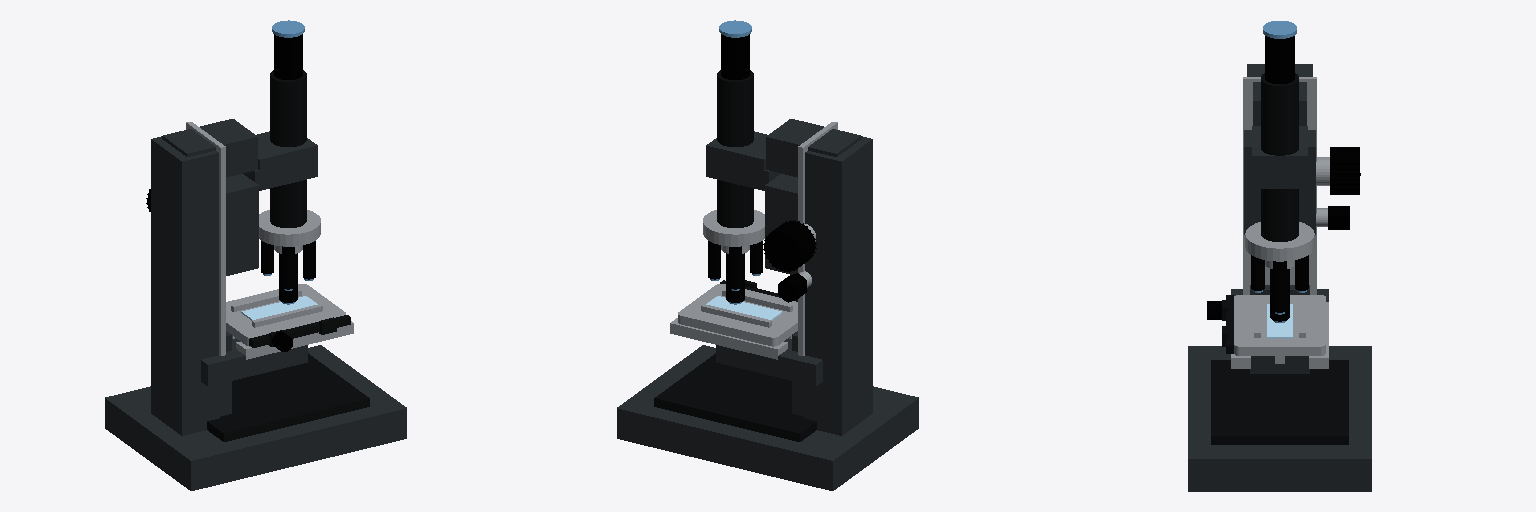
The robot description file, URDF, robot "metal_monocular_microscope":
<robot name="metal_monocular_microscope">
  <material name="painted_metal">
    <color rgba="0.2 0.22 0.23 1" />
    </material>
  <material name="dark_metal">
    <color rgba="0.08 0.085 0.09 1" />
    </material>
  <material name="brushed_steel">
    <color rgba="0.62 0.64 0.66 1" />
    </material>
  <material name="black_rubber">
    <color rgba="0.015 0.015 0.018 1" />
    </material>
  <material name="objective_black">
    <color rgba="0.03 0.03 0.035 1" />
    </material>
  <material name="lens_glass">
    <color rgba="0.42 0.62 0.78 0.45" />
    </material>
  <material name="slide_glass">
    <color rgba="0.76 0.91 1 0.35" />
    </material>
  <link name="frame">
    <visual name="deep_base">
      <origin xyz="0.01 0 0.0175" rpy="0 0 0" />
      <geometry>
        <box size="0.26 0.18 0.035" />
        </geometry>
      <material name="painted_metal">
        <color rgba="0.2 0.22 0.23 1" />
        </material>
      </visual>
    <visual name="base_top_plinth">
      <origin xyz="0.02 0 0.04" rpy="0 0 0" />
      <geometry>
        <box size="0.175 0.135 0.01" />
        </geometry>
      <material name="dark_metal">
        <color rgba="0.08 0.085 0.09 1" />
        </material>
      </visual>
    <visual name="upright_arm">
      <origin xyz="-0.075 0 0.1925" rpy="0 0 0" />
      <geometry>
        <box size="0.045 0.065 0.315" />
        </geometry>
      <material name="painted_metal">
        <color rgba="0.2 0.22 0.23 1" />
        </material>
      </visual>
    <visual name="arm_head_mass">
      <origin xyz="-0.045 0 0.335" rpy="0 0 0" />
      <geometry>
        <box size="0.085 0.052 0.038" />
        </geometry>
      <material name="painted_metal">
        <color rgba="0.2 0.22 0.23 1" />
        </material>
      </visual>
    <visual name="stage_cantilever">
      <origin xyz="-0.015 0 0.105" rpy="0 0 0" />
      <geometry>
        <box size="0.12 0.095 0.025" />
        </geometry>
      <material name="painted_metal">
        <color rgba="0.2 0.22 0.23 1" />
        </material>
      </visual>
    <visual name="stage_support_web">
      <origin xyz="-0.05 0 0.0875" rpy="0 0 0" />
      <geometry>
        <box size="0.03 0.058 0.095" />
        </geometry>
      <material name="painted_metal">
        <color rgba="0.2 0.22 0.23 1" />
        </material>
      </visual>
    <visual name="stage_rail_0">
      <origin xyz="0.035 -0.038 0.119" rpy="0 0 0" />
      <geometry>
        <box size="0.13 0.02 0.012" />
        </geometry>
      <material name="brushed_steel">
        <color rgba="0.62 0.64 0.66 1" />
        </material>
      </visual>
    <visual name="stage_rail_1">
      <origin xyz="0.035 0.038 0.119" rpy="0 0 0" />
      <geometry>
        <box size="0.13 0.02 0.012" />
        </geometry>
      <material name="brushed_steel">
        <color rgba="0.62 0.64 0.66 1" />
        </material>
      </visual>
    <visual name="stage_center_way">
      <origin xyz="0.035 0 0.12" rpy="0 0 0" />
      <geometry>
        <box size="0.112 0.01 0.01" />
        </geometry>
      <material name="brushed_steel">
        <color rgba="0.62 0.64 0.66 1" />
        </material>
      </visual>
    <visual name="focus_dovetail">
      <origin xyz="-0.05 0 0.222" rpy="0 0 0" />
      <geometry>
        <box size="0.006 0.072 0.27" />
        </geometry>
      <material name="brushed_steel">
        <color rgba="0.62 0.64 0.66 1" />
        </material>
      </visual>
    <visual name="coarse_focus_boss">
      <origin xyz="-0.053 0.0405 0.255" rpy="-1.5708 0 0" />
      <geometry>
        <cylinder radius="0.014" length="0.016" />
        </geometry>
      <material name="brushed_steel">
        <color rgba="0.62 0.64 0.66 1" />
        </material>
      </visual>
    <visual name="fine_focus_boss">
      <origin xyz="-0.053 0.0395 0.205" rpy="-1.5708 0 0" />
      <geometry>
        <cylinder radius="0.009" length="0.014" />
        </geometry>
      <material name="brushed_steel">
        <color rgba="0.62 0.64 0.66 1" />
        </material>
      </visual>
    <collision name="deep_base">
      <origin xyz="0.01 0 0.0175" rpy="0 0 0" />
      <geometry>
        <box size="0.26 0.18 0.035" />
        </geometry>
      </collision>
    <collision name="base_top_plinth">
      <origin xyz="0.02 0 0.04" rpy="0 0 0" />
      <geometry>
        <box size="0.175 0.135 0.01" />
        </geometry>
      </collision>
    <collision name="upright_arm">
      <origin xyz="-0.075 0 0.1925" rpy="0 0 0" />
      <geometry>
        <box size="0.045 0.065 0.315" />
        </geometry>
      </collision>
    <collision name="arm_head_mass">
      <origin xyz="-0.045 0 0.335" rpy="0 0 0" />
      <geometry>
        <box size="0.085 0.052 0.038" />
        </geometry>
      </collision>
    <collision name="stage_cantilever">
      <origin xyz="-0.015 0 0.105" rpy="0 0 0" />
      <geometry>
        <box size="0.12 0.095 0.025" />
        </geometry>
      </collision>
    <collision name="stage_support_web">
      <origin xyz="-0.05 0 0.0875" rpy="0 0 0" />
      <geometry>
        <box size="0.03 0.058 0.095" />
        </geometry>
      </collision>
    <collision name="stage_rail_0">
      <origin xyz="0.035 -0.038 0.119" rpy="0 0 0" />
      <geometry>
        <box size="0.13 0.02 0.012" />
        </geometry>
      </collision>
    <collision name="stage_rail_1">
      <origin xyz="0.035 0.038 0.119" rpy="0 0 0" />
      <geometry>
        <box size="0.13 0.02 0.012" />
        </geometry>
      </collision>
    <collision name="stage_center_way">
      <origin xyz="0.035 0 0.12" rpy="0 0 0" />
      <geometry>
        <box size="0.112 0.01 0.01" />
        </geometry>
      </collision>
    <collision name="focus_dovetail">
      <origin xyz="-0.05 0 0.222" rpy="0 0 0" />
      <geometry>
        <box size="0.006 0.072 0.27" />
        </geometry>
      </collision>
    <collision name="coarse_focus_boss">
      <origin xyz="-0.053 0.0405 0.255" rpy="-1.5708 0 0" />
      <geometry>
        <cylinder radius="0.014" length="0.016" />
        </geometry>
      </collision>
    <collision name="fine_focus_boss">
      <origin xyz="-0.053 0.0395 0.205" rpy="-1.5708 0 0" />
      <geometry>
        <cylinder radius="0.009" length="0.014" />
        </geometry>
      </collision>
    </link>
  <link name="stage_carriage">
    <visual name="stage_plate">
      <geometry>
        <mesh filename="assets/meshes/rectangular_slide_stage.obj" />
        </geometry>
      <material name="brushed_steel">
        <color rgba="0.62 0.64 0.66 1" />
        </material>
      </visual>
    <visual name="glass_slide">
      <origin xyz="0.004 0 0.011" rpy="0 0 0" />
      <geometry>
        <box size="0.078 0.026 0.002" />
        </geometry>
      <material name="slide_glass">
        <color rgba="0.76 0.91 1 0.35" />
        </material>
      </visual>
    <visual name="slide_clip_0">
      <origin xyz="0 0.022 0.013" rpy="0 0 0" />
      <geometry>
        <box size="0.082 0.006 0.006" />
        </geometry>
      <material name="brushed_steel">
        <color rgba="0.62 0.64 0.66 1" />
        </material>
      </visual>
    <visual name="slide_clip_1">
      <origin xyz="0 -0.022 0.013" rpy="0 0 0" />
      <geometry>
        <box size="0.082 0.006 0.006" />
        </geometry>
      <material name="brushed_steel">
        <color rgba="0.62 0.64 0.66 1" />
        </material>
      </visual>
    <visual name="guide_bar">
      <origin xyz="0 -0.049 0.006" rpy="0 0 0" />
      <geometry>
        <box size="0.118 0.008 0.008" />
        </geometry>
      <material name="dark_metal">
        <color rgba="0.08 0.085 0.09 1" />
        </material>
      </visual>
    <visual name="guide_control_mount_0">
      <origin xyz="-0.03 -0.054 0.007" rpy="0 0 0" />
      <geometry>
        <box size="0.018 0.006 0.014" />
        </geometry>
      <material name="dark_metal">
        <color rgba="0.08 0.085 0.09 1" />
        </material>
      </visual>
    <visual name="guide_control_mount_1">
      <origin xyz="0.03 -0.054 0.007" rpy="0 0 0" />
      <geometry>
        <box size="0.018 0.006 0.014" />
        </geometry>
      <material name="dark_metal">
        <color rgba="0.08 0.085 0.09 1" />
        </material>
      </visual>
    <collision name="stage_plate">
      <geometry>
        <mesh filename="assets/meshes/rectangular_slide_stage.obj" />
        </geometry>
      </collision>
    <collision name="glass_slide">
      <origin xyz="0.004 0 0.011" rpy="0 0 0" />
      <geometry>
        <box size="0.078 0.026 0.002" />
        </geometry>
      </collision>
    <collision name="slide_clip_0">
      <origin xyz="0 0.022 0.013" rpy="0 0 0" />
      <geometry>
        <box size="0.082 0.006 0.006" />
        </geometry>
      </collision>
    <collision name="slide_clip_1">
      <origin xyz="0 -0.022 0.013" rpy="0 0 0" />
      <geometry>
        <box size="0.082 0.006 0.006" />
        </geometry>
      </collision>
    <collision name="guide_bar">
      <origin xyz="0 -0.049 0.006" rpy="0 0 0" />
      <geometry>
        <box size="0.118 0.008 0.008" />
        </geometry>
      </collision>
    <collision name="guide_control_mount_0">
      <origin xyz="-0.03 -0.054 0.007" rpy="0 0 0" />
      <geometry>
        <box size="0.018 0.006 0.014" />
        </geometry>
      </collision>
    <collision name="guide_control_mount_1">
      <origin xyz="0.03 -0.054 0.007" rpy="0 0 0" />
      <geometry>
        <box size="0.018 0.006 0.014" />
        </geometry>
      </collision>
    </link>
  <link name="body_carriage">
    <visual name="focus_slide_block">
      <origin xyz="0.02 0 0" rpy="0 0 0" />
      <geometry>
        <box size="0.04 0.07 0.095" />
        </geometry>
      <material name="painted_metal">
        <color rgba="0.2 0.22 0.23 1" />
        </material>
      </visual>
    <visual name="monocular_head">
      <origin xyz="0.08 0 0.055" rpy="0 0 0" />
      <geometry>
        <box size="0.07 0.055 0.036" />
        </geometry>
      <material name="painted_metal">
        <color rgba="0.2 0.22 0.23 1" />
        </material>
      </visual>
    <visual name="head_neck">
      <origin xyz="0.0425 0 0.05" rpy="0 0 0" />
      <geometry>
        <box size="0.005 0.055 0.021" />
        </geometry>
      <material name="painted_metal">
        <color rgba="0.2 0.22 0.23 1" />
        </material>
      </visual>
    <visual name="optical_tube">
      <origin xyz="0.0955 0 0.064" rpy="0 0 0" />
      <geometry>
        <cylinder radius="0.019" length="0.168" />
        </geometry>
      <material name="dark_metal">
        <color rgba="0.08 0.085 0.09 1" />
        </material>
      </visual>
    <visual name="eyepiece_barrel">
      <origin xyz="0.0955 0 0.173" rpy="0 0 0" />
      <geometry>
        <cylinder radius="0.015" length="0.05" />
        </geometry>
      <material name="black_rubber">
        <color rgba="0.015 0.015 0.018 1" />
        </material>
      </visual>
    <visual name="ocular_lens">
      <origin xyz="0.0955 0 0.2" rpy="0 0 0" />
      <geometry>
        <cylinder radius="0.017" length="0.004" />
        </geometry>
      <material name="lens_glass">
        <color rgba="0.42 0.62 0.78 0.45" />
        </material>
      </visual>
    <collision name="focus_slide_block">
      <origin xyz="0.02 0 0" rpy="0 0 0" />
      <geometry>
        <box size="0.04 0.07 0.095" />
        </geometry>
      </collision>
    <collision name="monocular_head">
      <origin xyz="0.08 0 0.055" rpy="0 0 0" />
      <geometry>
        <box size="0.07 0.055 0.036" />
        </geometry>
      </collision>
    <collision name="head_neck">
      <origin xyz="0.0425 0 0.05" rpy="0 0 0" />
      <geometry>
        <box size="0.005 0.055 0.021" />
        </geometry>
      </collision>
    <collision name="optical_tube">
      <origin xyz="0.0955 0 0.064" rpy="0 0 0" />
      <geometry>
        <cylinder radius="0.019" length="0.168" />
        </geometry>
      </collision>
    <collision name="eyepiece_barrel">
      <origin xyz="0.0955 0 0.173" rpy="0 0 0" />
      <geometry>
        <cylinder radius="0.015" length="0.05" />
        </geometry>
      </collision>
    <collision name="ocular_lens">
      <origin xyz="0.0955 0 0.2" rpy="0 0 0" />
      <geometry>
        <cylinder radius="0.017" length="0.004" />
        </geometry>
      </collision>
    </link>
  <link name="nosepiece">
    <visual name="revolving_turret">
      <origin xyz="0 0 -0.007" rpy="0 0 0" />
      <geometry>
        <cylinder radius="0.034" length="0.014" />
        </geometry>
      <material name="brushed_steel">
        <color rgba="0.62 0.64 0.66 1" />
        </material>
      </visual>
    <visual name="central_hub">
      <origin xyz="0 0 -0.023" rpy="0 0 0" />
      <geometry>
        <cylinder radius="0.015" length="0.018" />
        </geometry>
      <material name="brushed_steel">
        <color rgba="0.62 0.64 0.66 1" />
        </material>
      </visual>
    <visual name="objective_center">
      <origin xyz="0 0 -0.052" rpy="0 0 0" />
      <geometry>
        <cylinder radius="0.0095" length="0.076" />
        </geometry>
      <material name="objective_black">
        <color rgba="0.03 0.03 0.035 1" />
        </material>
      </visual>
    <visual name="objective_center_lens">
      <origin xyz="0 0 -0.0915" rpy="0 0 0" />
      <geometry>
        <cylinder radius="0.00684" length="0.003" />
        </geometry>
      <material name="lens_glass">
        <color rgba="0.42 0.62 0.78 0.45" />
        </material>
      </visual>
    <visual name="objective_0">
      <origin xyz="0.025 0 -0.042" rpy="0 0 0" />
      <geometry>
        <cylinder radius="0.007" length="0.056" />
        </geometry>
      <material name="objective_black">
        <color rgba="0.03 0.03 0.035 1" />
        </material>
      </visual>
    <visual name="objective_0_lens">
      <origin xyz="0.025 0 -0.0715" rpy="0 0 0" />
      <geometry>
        <cylinder radius="0.00504" length="0.003" />
        </geometry>
      <material name="lens_glass">
        <color rgba="0.42 0.62 0.78 0.45" />
        </material>
      </visual>
    <visual name="objective_1">
      <origin xyz="-0.0125 0.0217 -0.039" rpy="0 0 0" />
      <geometry>
        <cylinder radius="0.007" length="0.05" />
        </geometry>
      <material name="objective_black">
        <color rgba="0.03 0.03 0.035 1" />
        </material>
      </visual>
    <visual name="objective_1_lens">
      <origin xyz="-0.0125 0.0217 -0.0655" rpy="0 0 0" />
      <geometry>
        <cylinder radius="0.00504" length="0.003" />
        </geometry>
      <material name="lens_glass">
        <color rgba="0.42 0.62 0.78 0.45" />
        </material>
      </visual>
    <visual name="objective_2">
      <origin xyz="-0.0125 -0.0217 -0.039" rpy="0 0 0" />
      <geometry>
        <cylinder radius="0.007" length="0.05" />
        </geometry>
      <material name="objective_black">
        <color rgba="0.03 0.03 0.035 1" />
        </material>
      </visual>
    <visual name="objective_2_lens">
      <origin xyz="-0.0125 -0.0217 -0.0655" rpy="0 0 0" />
      <geometry>
        <cylinder radius="0.00504" length="0.003" />
        </geometry>
      <material name="lens_glass">
        <color rgba="0.42 0.62 0.78 0.45" />
        </material>
      </visual>
    <collision name="revolving_turret">
      <origin xyz="0 0 -0.007" rpy="0 0 0" />
      <geometry>
        <cylinder radius="0.034" length="0.014" />
        </geometry>
      </collision>
    <collision name="central_hub">
      <origin xyz="0 0 -0.023" rpy="0 0 0" />
      <geometry>
        <cylinder radius="0.015" length="0.018" />
        </geometry>
      </collision>
    <collision name="objective_center">
      <origin xyz="0 0 -0.052" rpy="0 0 0" />
      <geometry>
        <cylinder radius="0.0095" length="0.076" />
        </geometry>
      </collision>
    <collision name="objective_center_lens">
      <origin xyz="0 0 -0.0915" rpy="0 0 0" />
      <geometry>
        <cylinder radius="0.00684" length="0.003" />
        </geometry>
      </collision>
    <collision name="objective_0">
      <origin xyz="0.025 0 -0.042" rpy="0 0 0" />
      <geometry>
        <cylinder radius="0.007" length="0.056" />
        </geometry>
      </collision>
    <collision name="objective_0_lens">
      <origin xyz="0.025 0 -0.0715" rpy="0 0 0" />
      <geometry>
        <cylinder radius="0.00504" length="0.003" />
        </geometry>
      </collision>
    <collision name="objective_1">
      <origin xyz="-0.0125 0.0217 -0.039" rpy="0 0 0" />
      <geometry>
        <cylinder radius="0.007" length="0.05" />
        </geometry>
      </collision>
    <collision name="objective_1_lens">
      <origin xyz="-0.0125 0.0217 -0.0655" rpy="0 0 0" />
      <geometry>
        <cylinder radius="0.00504" length="0.003" />
        </geometry>
      </collision>
    <collision name="objective_2">
      <origin xyz="-0.0125 -0.0217 -0.039" rpy="0 0 0" />
      <geometry>
        <cylinder radius="0.007" length="0.05" />
        </geometry>
      </collision>
    <collision name="objective_2_lens">
      <origin xyz="-0.0125 -0.0217 -0.0655" rpy="0 0 0" />
      <geometry>
        <cylinder radius="0.00504" length="0.003" />
        </geometry>
      </collision>
    </link>
  <link name="coarse_knob">
    <visual name="coarse_knob_cap">
      <geometry>
        <mesh filename="assets/meshes/coarse_focus_knob.obj" />
        </geometry>
      <material name="black_rubber">
        <color rgba="0.015 0.015 0.018 1" />
        </material>
      </visual>
    <collision name="coarse_knob_cap">
      <geometry>
        <mesh filename="assets/meshes/coarse_focus_knob.obj" />
        </geometry>
      </collision>
    </link>
  <link name="fine_knob">
    <visual name="fine_knob_cap">
      <geometry>
        <mesh filename="assets/meshes/fine_focus_knob.obj" />
        </geometry>
      <material name="black_rubber">
        <color rgba="0.015 0.015 0.018 1" />
        </material>
      </visual>
    <collision name="fine_knob_cap">
      <geometry>
        <mesh filename="assets/meshes/fine_focus_knob.obj" />
        </geometry>
      </collision>
    </link>
  <link name="guide_control_0">
    <visual name="guide_knob_cap">
      <geometry>
        <mesh filename="assets/meshes/stage_guide_control_0.obj" />
        </geometry>
      <material name="black_rubber">
        <color rgba="0.015 0.015 0.018 1" />
        </material>
      </visual>
    <collision name="guide_knob_cap">
      <geometry>
        <mesh filename="assets/meshes/stage_guide_control_0.obj" />
        </geometry>
      </collision>
    </link>
  <link name="guide_control_1">
    <visual name="guide_knob_cap">
      <geometry>
        <mesh filename="assets/meshes/stage_guide_control_1.obj" />
        </geometry>
      <material name="black_rubber">
        <color rgba="0.015 0.015 0.018 1" />
        </material>
      </visual>
    <collision name="guide_knob_cap">
      <geometry>
        <mesh filename="assets/meshes/stage_guide_control_1.obj" />
        </geometry>
      </collision>
    </link>
  <joint name="frame_to_stage_carriage" type="prismatic">
    <origin xyz="0.035 0 0.125" rpy="0 0 0" />
    <parent link="frame" />
    <child link="stage_carriage" />
    <axis xyz="1 0 0" />
    <limit effort="15" velocity="0.08" lower="-0.03" upper="0.03" />
    </joint>
  <joint name="frame_to_body_carriage" type="prismatic">
    <origin xyz="-0.0465 0 0.255" rpy="0 0 0" />
    <parent link="frame" />
    <child link="body_carriage" />
    <axis xyz="0 0 1" />
    <limit effort="25" velocity="0.05" lower="0" upper="0.055" />
    </joint>
  <joint name="body_to_nosepiece" type="continuous">
    <origin xyz="0.0955 0 -0.02" rpy="0 0 0" />
    <parent link="body_carriage" />
    <child link="nosepiece" />
    <axis xyz="0 0 1" />
    <limit effort="0.4" velocity="3.5" />
    </joint>
  <joint name="frame_to_coarse_knob" type="continuous">
    <origin xyz="-0.053 0.0485 0.255" rpy="-1.5708 0 0" />
    <parent link="frame" />
    <child link="coarse_knob" />
    <axis xyz="0 0 1" />
    <limit effort="0.5" velocity="8" />
    </joint>
  <joint name="frame_to_fine_knob" type="continuous">
    <origin xyz="-0.053 0.0465 0.205" rpy="-1.5708 0 0" />
    <parent link="frame" />
    <child link="fine_knob" />
    <axis xyz="0 0 1" />
    <limit effort="0.2" velocity="10" />
    </joint>
  <joint name="stage_to_guide_control_0" type="continuous">
    <origin xyz="-0.03 -0.057 0.007" rpy="1.5708 0 0" />
    <parent link="stage_carriage" />
    <child link="guide_control_0" />
    <axis xyz="0 0 1" />
    <limit effort="0.08" velocity="8" />
    </joint>
  <joint name="stage_to_guide_control_1" type="continuous">
    <origin xyz="0.03 -0.057 0.007" rpy="1.5708 0 0" />
    <parent link="stage_carriage" />
    <child link="guide_control_1" />
    <axis xyz="0 0 1" />
    <limit effort="0.08" velocity="8" />
    </joint>
  </robot>

--- Render facts (derived) ---
Views: 3 orthographic renders of the robot side by side, from view 1: azimuth 30°, elevation 25°; view 2: azimuth 150°, elevation 25°; view 3: azimuth 270°, elevation 25°.
Robot: metal_monocular_microscope — 8 links, 7 joints (5 continuous, 2 prismatic); root link frame; default pose: every joint at zero.
Visible links, largest first — view 1: frame, body_carriage, stage_carriage, nosepiece; view 2: frame, body_carriage, stage_carriage, nosepiece, coarse_knob, fine_knob; view 3: frame, body_carriage, stage_carriage, nosepiece, coarse_knob, fine_knob.
Boxes of the visible links, x1=… form: frame: x1=105, y1=119, x2=406, y2=490; body_carriage: x1=226, y1=20, x2=317, y2=275; stage_carriage: x1=226, y1=284, x2=350, y2=347; nosepiece: x1=259, y1=210, x2=320, y2=304; frame: x1=617, y1=119, x2=918, y2=490; body_carriage: x1=706, y1=20, x2=797, y2=274; stage_carriage: x1=678, y1=280, x2=797, y2=346; nosepiece: x1=703, y1=210, x2=764, y2=304; coarse_knob: x1=763, y1=220, x2=816, y2=272; fine_knob: x1=778, y1=273, x2=806, y2=302; frame: x1=1188, y1=64, x2=1371, y2=491; body_carriage: x1=1244, y1=21, x2=1315, y2=241; stage_carriage: x1=1222, y1=295, x2=1325, y2=355; nosepiece: x1=1245, y1=222, x2=1314, y2=322; coarse_knob: x1=1330, y1=147, x2=1360, y2=194; fine_knob: x1=1328, y1=206, x2=1349, y2=229.
Size in the robot's own frame: 0.26 by 0.18 by 0.457 metres.
4 mesh visuals loaded from 5 distinct referenced files (4 OBJ); not drawn: 1 (reference not matched to a file when rendering).
